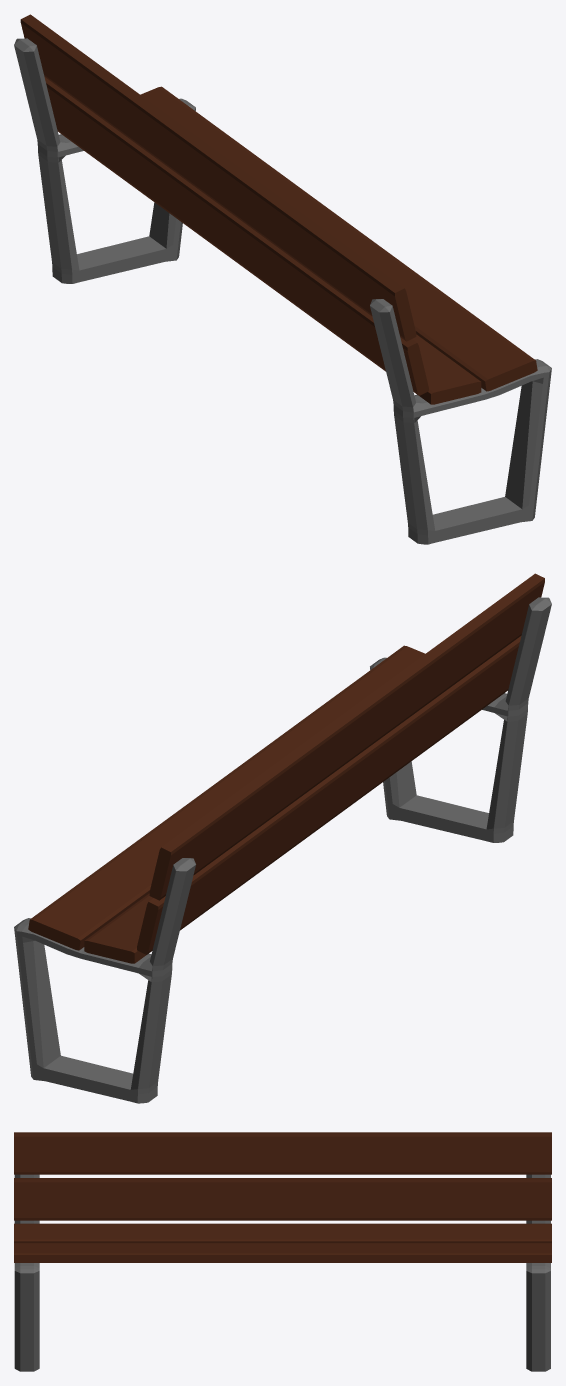
The model's file is Banc.glb.
3 views of the same model, one above another, from view 1: azimuth 30°, elevation 25°; view 2: azimuth 150°, elevation 25°; view 3: azimuth 270°, elevation 25° (orthographic). The views are drawn at different scales.
Visible parts, largest first — view 1: Banc bois, Banc metal; view 2: Banc bois, Banc metal; view 3: Banc bois, Banc metal.
Boxes of the visible parts, x1,y1,x2,y2 form: Banc bois: (20, 14, 537, 404); Banc metal: (14, 38, 551, 544); Banc bois: (28, 573, 544, 963); Banc metal: (14, 597, 551, 1103); Banc bois: (14, 1132, 551, 1262); Banc metal: (14, 1174, 550, 1371).
Bounding box in the file's own units: 0.5332 × 0.7881 × 2.
